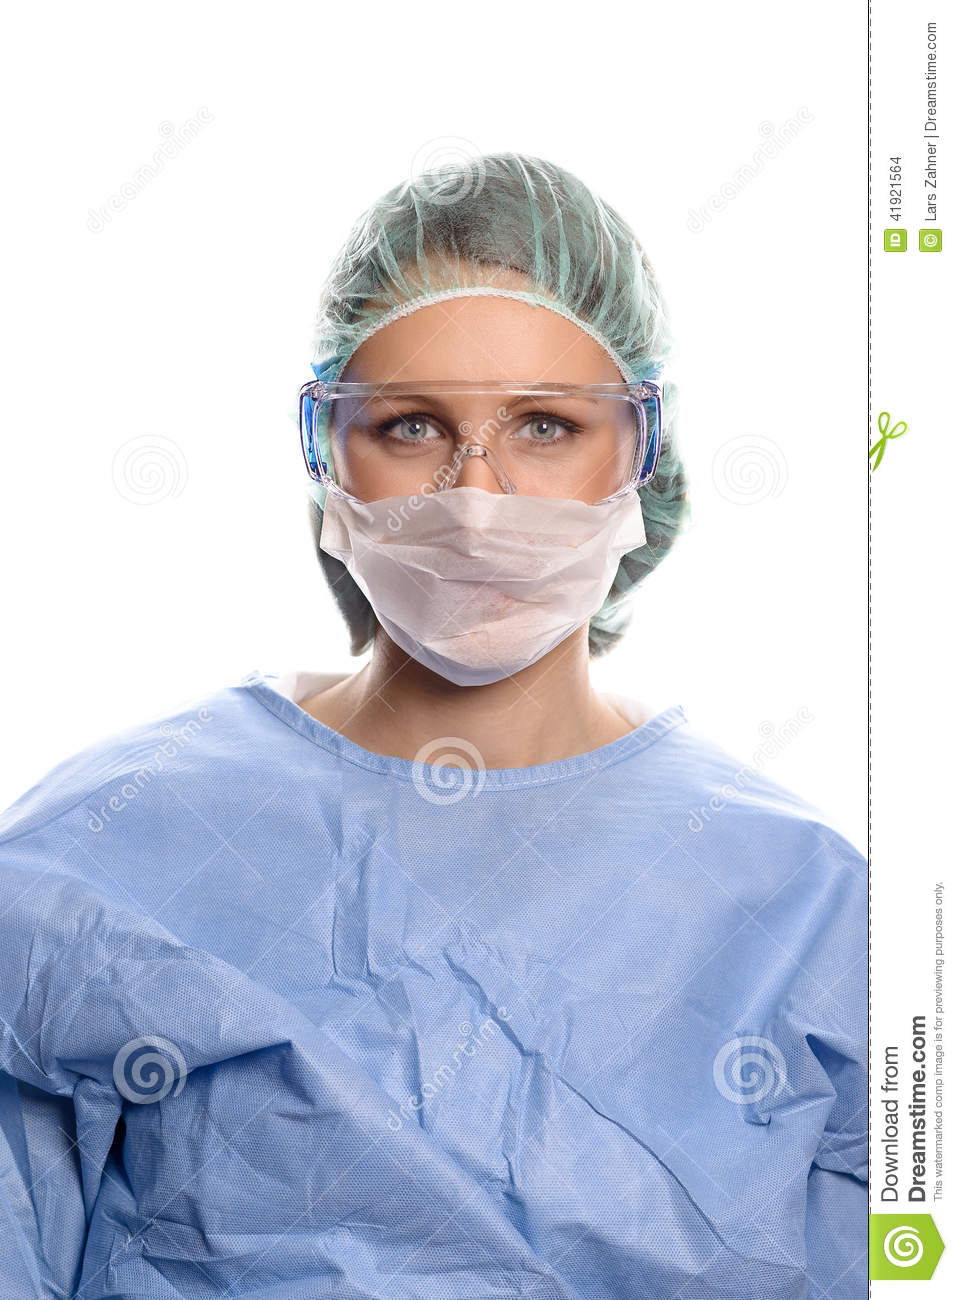mask: (311, 485, 653, 699)
